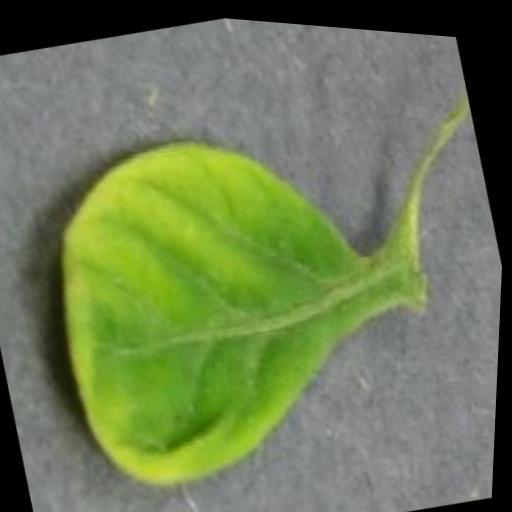Yellow Leaf Curl Virus: (20, 94, 404, 512)
